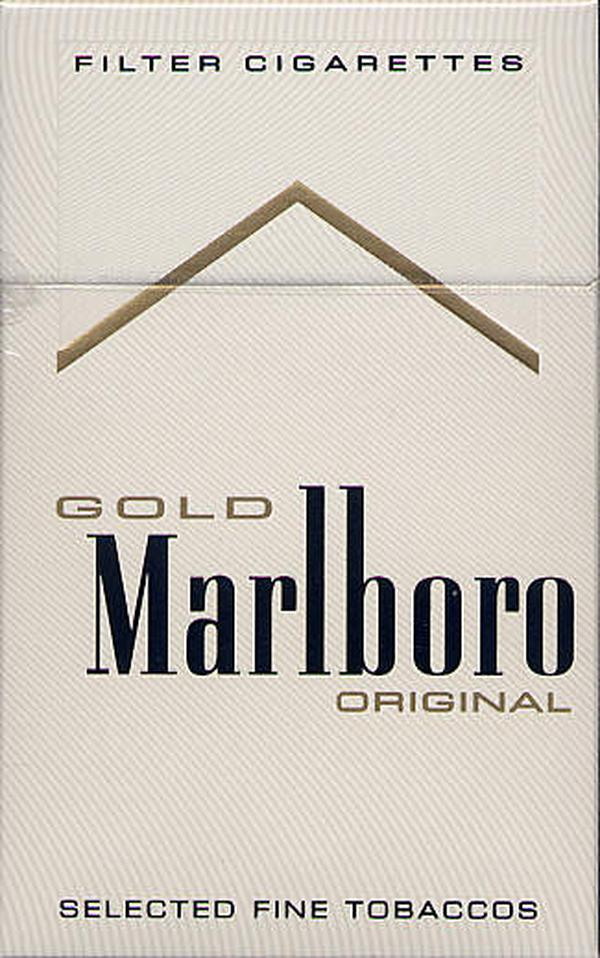marlboro_gold: (6, 15, 597, 958)
